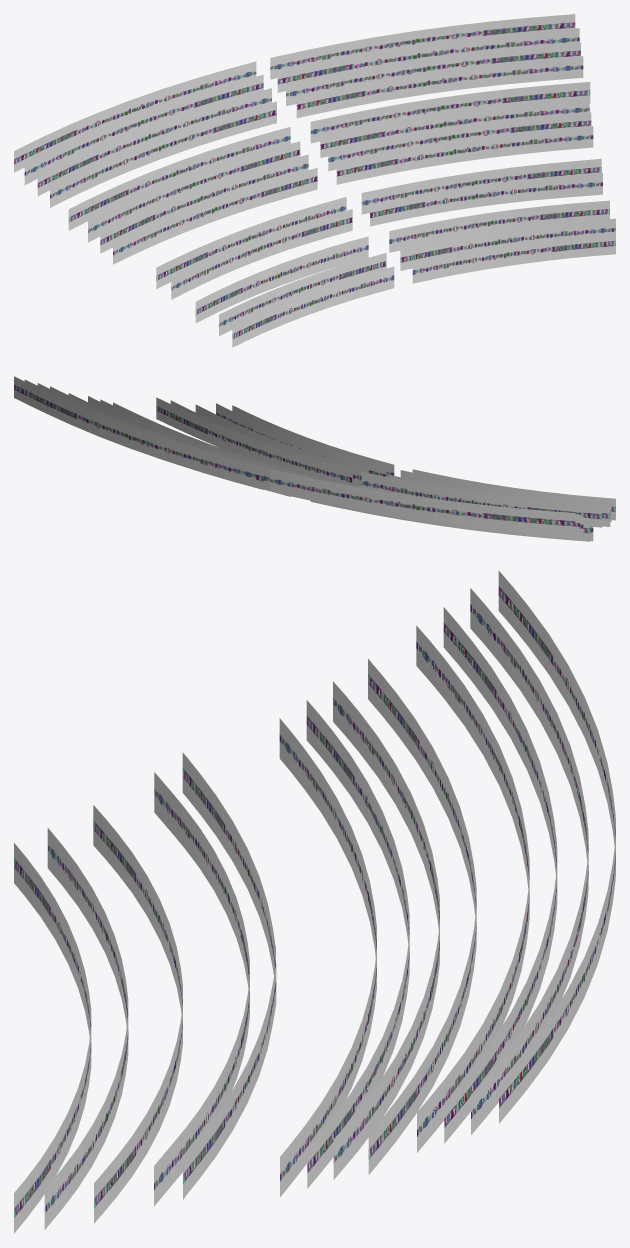
The model's file is stand_viewers_001.fbx.
3 renders of one model, top to bottom at view 1: azimuth 30°, elevation 25°; view 2: azimuth 150°, elevation 25°; view 3: azimuth 270°, elevation 25°, orthographic. The views are drawn at different scales.
Parts seen in each view (by area): view 1: stand_viewers_001; view 2: stand_viewers_001; view 3: stand_viewers_001.
Part boxes in pixels (x1,y1,x2,y2): stand_viewers_001: (14,14,615,347); stand_viewers_001: (14,376,615,541); stand_viewers_001: (14,570,615,1233).
Bounding box in the file's own units: 22721 × 11266 × 4786.
